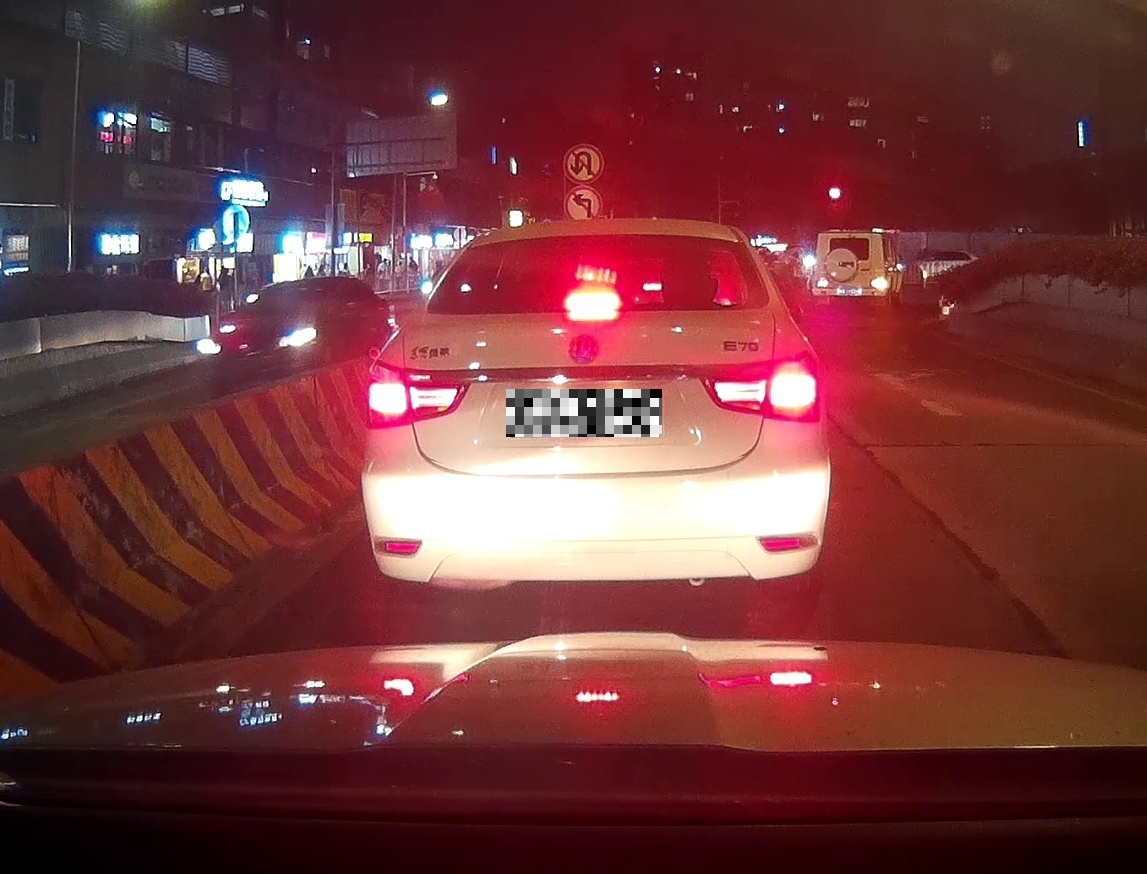L_light: (364, 360, 471, 430)
R_light: (697, 349, 820, 422)
T_light: (564, 292, 622, 315)
night-brake: (355, 217, 830, 605)
plate_1: (506, 389, 662, 437)
